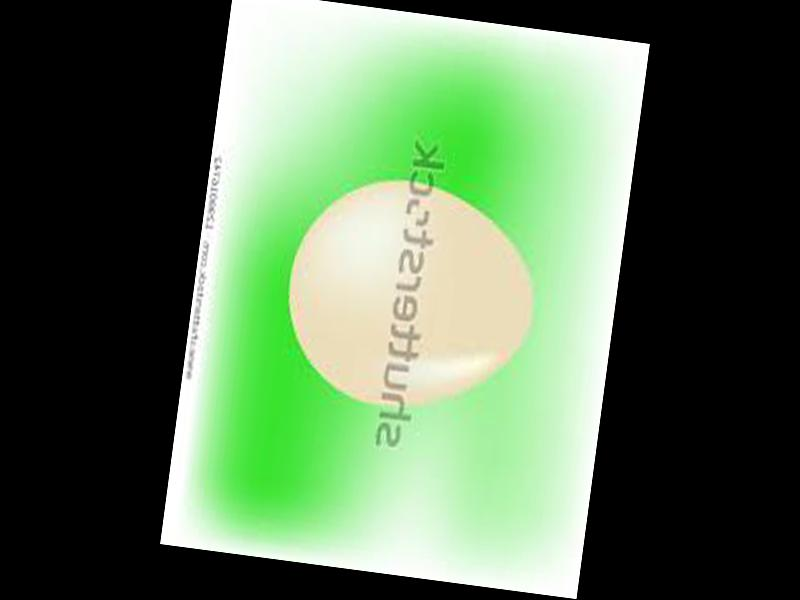Eggs: (276, 166, 547, 422)
